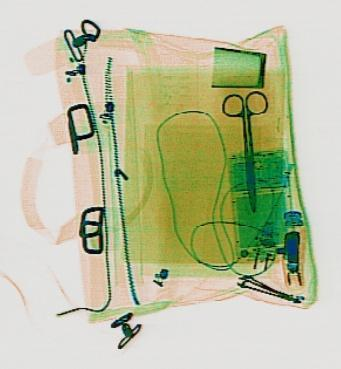Scissors: (219, 89, 275, 213)
